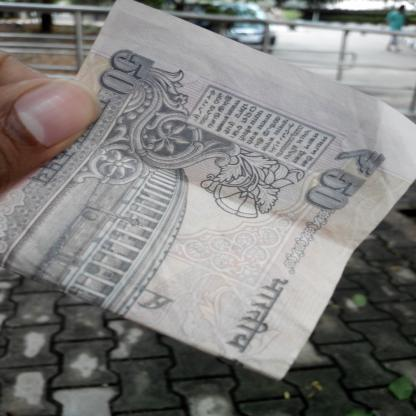Old50Back: (0, 0, 416, 382)
